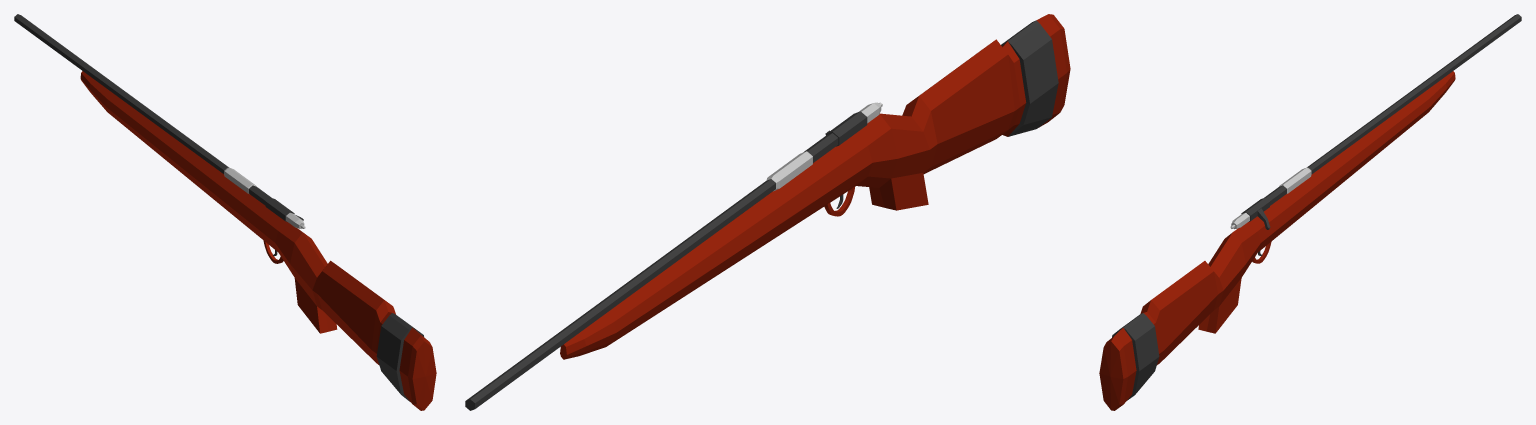
The model's file is BoltRifle.fbx.
3 views of the same model, side by side, from view 1: azimuth 30°, elevation 25°; view 2: azimuth 150°, elevation 25°; view 3: azimuth 330°, elevation 25° (orthographic). The views are drawn at different scales.
Visible parts, largest first — view 1: Cylinder; view 2: Cylinder, Cylinder.001; view 3: Cylinder, Cylinder.001.
Boxes of the visible parts, bbox=[...] form: Cylinder: bbox=[14, 14, 436, 410]; Cylinder: bbox=[465, 14, 1070, 410]; Cylinder.001: bbox=[825, 111, 867, 146]; Cylinder: bbox=[1099, 14, 1521, 410]; Cylinder.001: bbox=[1241, 197, 1270, 229].
Bounding box in the file's own units: 0.715 × 2.07 × 14.81.
